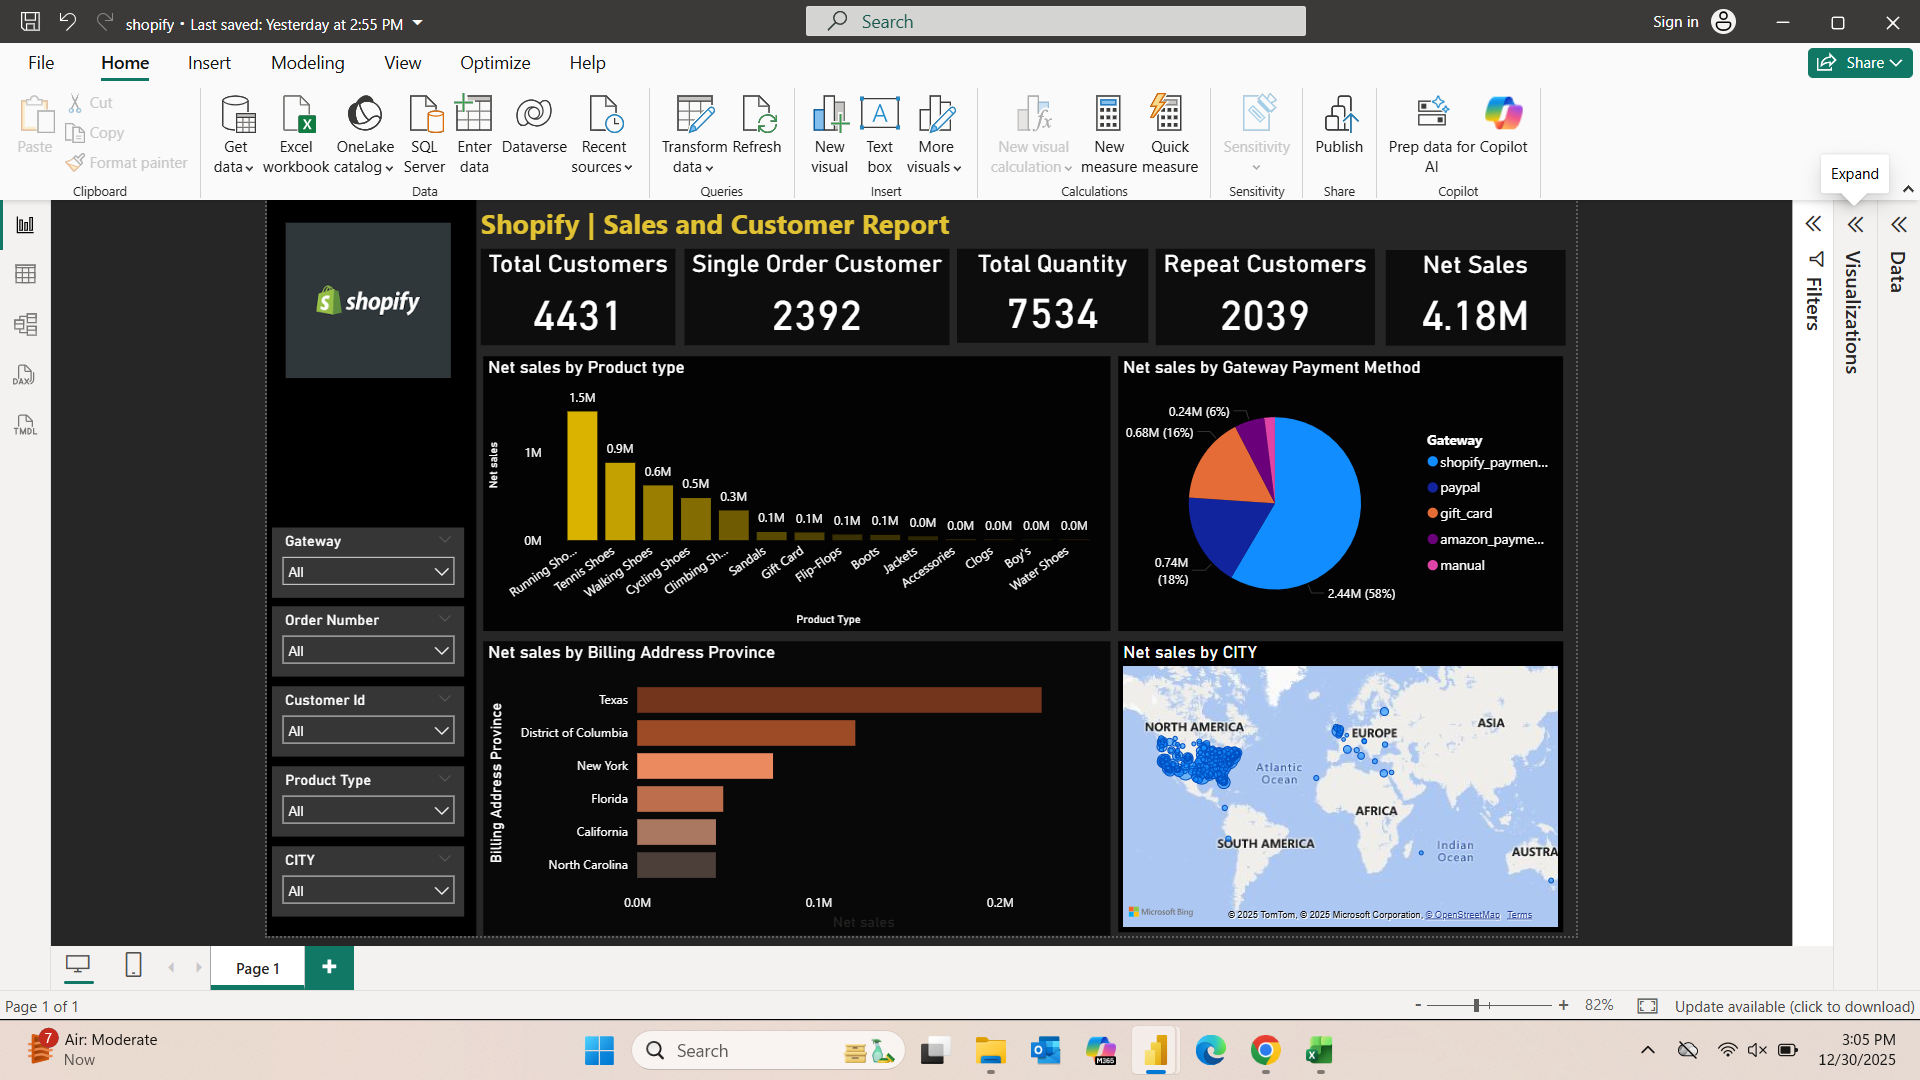

Layout of this report page (visuals, bound fields, positions):
{"tool":"powerbi","page":{"name":"Page 1","canvas":[1280,720],"ordinal":0},"visuals":[{"type":"textbox","box":[0,0,204.5,720.4],"z":0},{"type":"card","title":"Total Customers","fields":{"Values":["shopify_sales.Total Customers"]},"box":[208.6,48,190.7,94.7],"z":1000},{"type":"card","title":"Single Order Customer","fields":{"Values":["shopify_sales.Single Order Customers"]},"box":[408.9,48,259.3,94.7],"z":2000},{"type":"card","title":"Repeat Customers","fields":{"Values":["shopify_sales.Repeat Customers"]},"box":[870,48,214.1,94.7],"z":3000},{"type":"card","title":"Total Quantity","fields":{"Values":["Sum(shopify_sales.Quantity)"]},"box":[675,47.7,187.1,91.7],"z":4000},{"type":"slicer","fields":{"Values":["shopify_sales.Customer Id"]},"box":[4.9,475.7,188.3,68.5],"z":5000},{"type":"card","title":"Net Sales","fields":{"Values":["shopify_sales.Net sales"]},"box":[1095,49.4,175.6,93.3],"z":6000},{"type":"image","box":[13.7,11,171.5,174.3],"z":7000},{"type":"slicer","fields":{"Values":["shopify_sales.Gateway"]},"box":[4.9,320.4,188.3,68.5],"z":8000},{"type":"slicer","fields":{"Values":["shopify_sales.Order Number"]},"box":[4.9,397.4,188.3,68.5],"z":9000},{"type":"slicer","fields":{"Values":["shopify_sales.Product Type"]},"box":[4.9,553.9,188.3,68.5],"z":10000},{"type":"slicer","fields":{"Values":["shopify_sales.CITY"]},"box":[4.9,632.2,188.3,68.5],"z":11000},{"type":"pieChart","title":"Net sales by Gateway Payment Method","fields":{"Category":["shopify_sales.Gateway"],"Y":["shopify_sales.Net sales"]},"box":[832.9,152.3,435,269],"z":12000},{"type":"clusteredColumnChart","title":"Net sales by Product type","fields":{"Category":["shopify_sales.Product Type"],"Y":["shopify_sales.Net sales"]},"box":[211.3,152.3,613.4,269],"z":13000},{"type":"map","fields":{"Category":["shopify_sales.CITY"],"Size":["shopify_sales.Net sales"]},"box":[832.9,432.2,435,284],"z":14000},{"type":"barChart","fields":{"Category":["shopify_sales.Billing Address Province","shopify_sales.CITY"],"Y":["shopify_sales.Net sales"]},"box":[211.3,432.2,613.4,288.2],"z":15000},{"type":"textbox","box":[204.5,0,1075.8,49.4],"z":16000}]}

Visuals, with their boxes on the page's 1280x720 design canvas (x1, y1, x2, y2). These are canvas units, not pixel positions in the 1920x1080 screenshot, which may show the page scaled, cropped or inside an application window:
textbox: {"x1": 0, "y1": 0, "x2": 204, "y2": 720}
"Total Customers" card: {"x1": 209, "y1": 48, "x2": 399, "y2": 143}
"Single Order Customer" card: {"x1": 409, "y1": 48, "x2": 668, "y2": 143}
"Repeat Customers" card: {"x1": 870, "y1": 48, "x2": 1084, "y2": 143}
"Total Quantity" card: {"x1": 675, "y1": 48, "x2": 862, "y2": 139}
slicer - shopify_sales.Customer Id: {"x1": 5, "y1": 476, "x2": 193, "y2": 544}
"Net Sales" card: {"x1": 1095, "y1": 49, "x2": 1271, "y2": 143}
image: {"x1": 14, "y1": 11, "x2": 185, "y2": 185}
slicer - shopify_sales.Gateway: {"x1": 5, "y1": 320, "x2": 193, "y2": 389}
slicer - shopify_sales.Order Number: {"x1": 5, "y1": 397, "x2": 193, "y2": 466}
slicer - shopify_sales.Product Type: {"x1": 5, "y1": 554, "x2": 193, "y2": 622}
slicer - shopify_sales.CITY: {"x1": 5, "y1": 632, "x2": 193, "y2": 701}
"Net sales by Gateway Payment Method" pieChart: {"x1": 833, "y1": 152, "x2": 1268, "y2": 421}
"Net sales by Product type" clusteredColumnChart: {"x1": 211, "y1": 152, "x2": 825, "y2": 421}
map - shopify_sales.CITY x shopify_sales.Net sales: {"x1": 833, "y1": 432, "x2": 1268, "y2": 716}
barChart - shopify_sales.Billing Address Province x shopify_sales.CITY: {"x1": 211, "y1": 432, "x2": 825, "y2": 720}
textbox: {"x1": 204, "y1": 0, "x2": 1280, "y2": 49}
